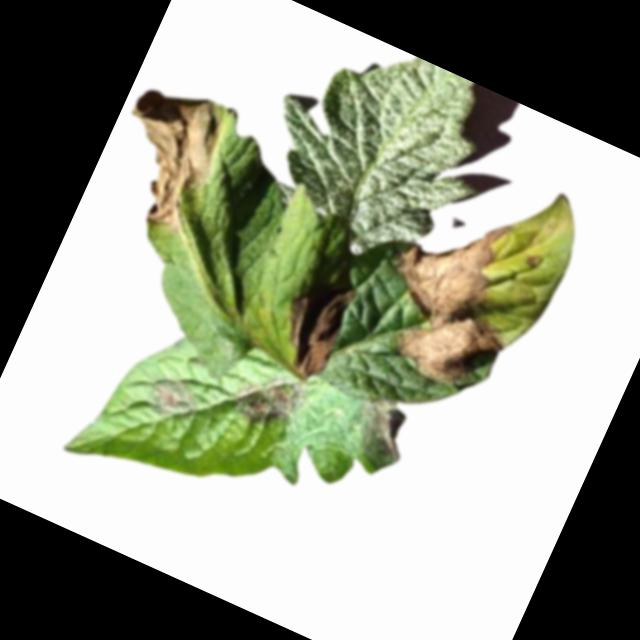Late_blight: (350, 186, 552, 404), (86, 68, 240, 238), (262, 266, 359, 386), (223, 356, 310, 438), (342, 384, 422, 470), (140, 368, 208, 430)
healthy: (235, 13, 517, 289)
